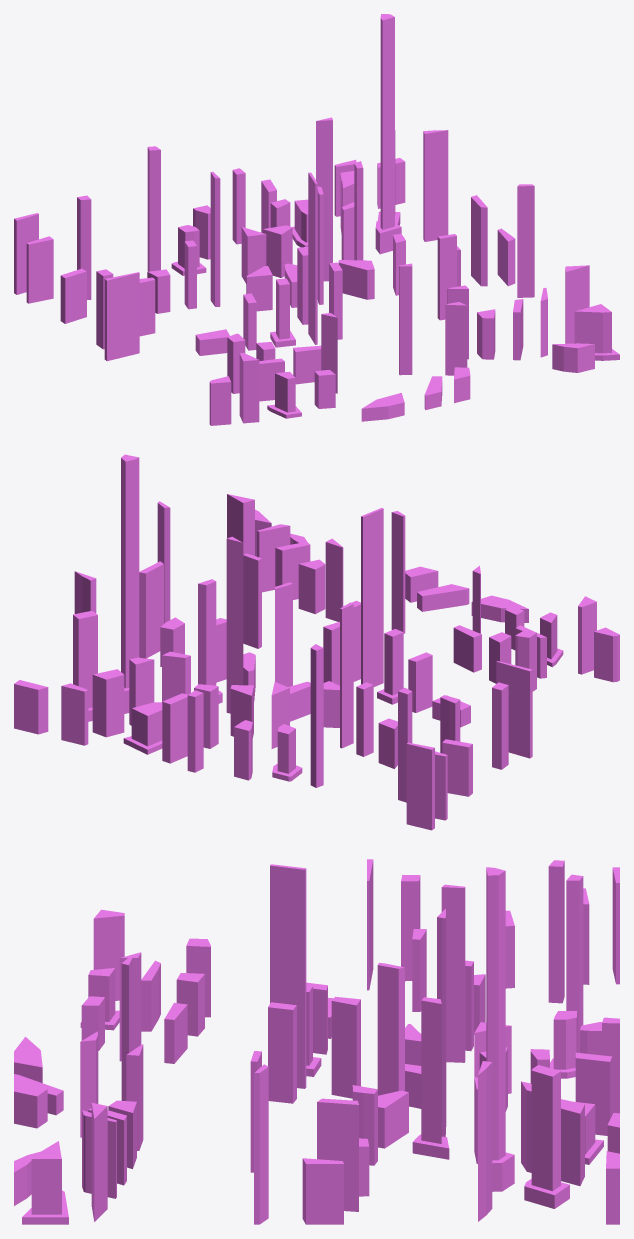
Rendered from buildings_00055.obj.
3 views of the same model, one above another, from view 1: azimuth 30°, elevation 25°; view 2: azimuth 150°, elevation 25°; view 3: azimuth 270°, elevation 25° (orthographic). The views are drawn at different scales.
Size of the model in its own units: 1460 by 834 by 1460.
